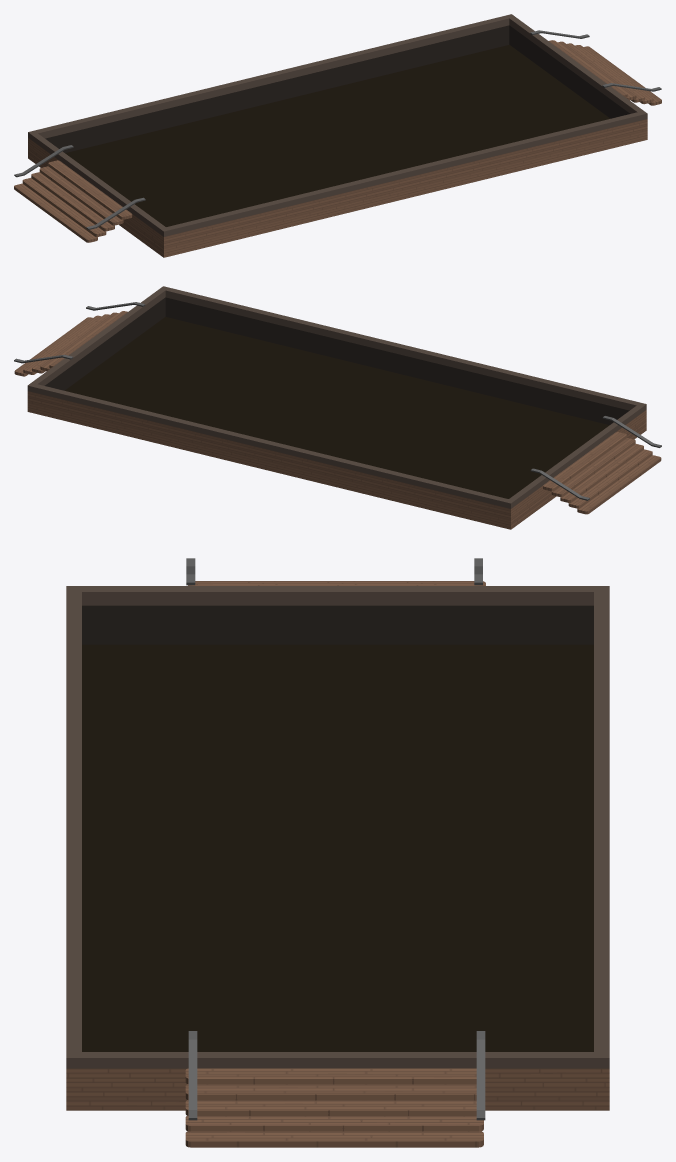
The model's file is pool.glb.
3 views of the same model, one above another, from view 1: azimuth 30°, elevation 25°; view 2: azimuth 150°, elevation 25°; view 3: azimuth 270°, elevation 25° (orthographic). The views are drawn at different scales.
Parts seen in each view (by area): view 1: pool; view 2: pool; view 3: pool.
Boxes of the visible parts, x1=… form: pool: x1=14, y1=14, x2=661, y2=257; pool: x1=14, y1=286, x2=661, y2=529; pool: x1=66, y1=558, x2=609, y2=1147.
Size of what is drawn, in the model's own units: 20.72 by 1.16 by 8.48.
4 materials, 4 textured.
